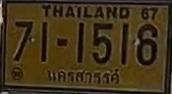1: (121, 22, 128, 63), (41, 22, 47, 62), (77, 23, 83, 62)
5: (92, 22, 112, 63)
6: (136, 23, 157, 65)
7: (14, 20, 32, 60)
NSN: (45, 65, 120, 86)
